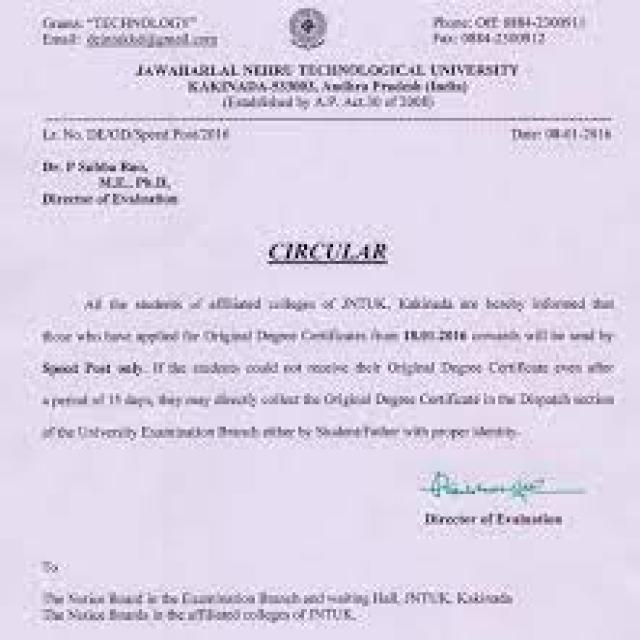signature: (422, 470, 589, 530)
stamp: (287, 7, 339, 56)
